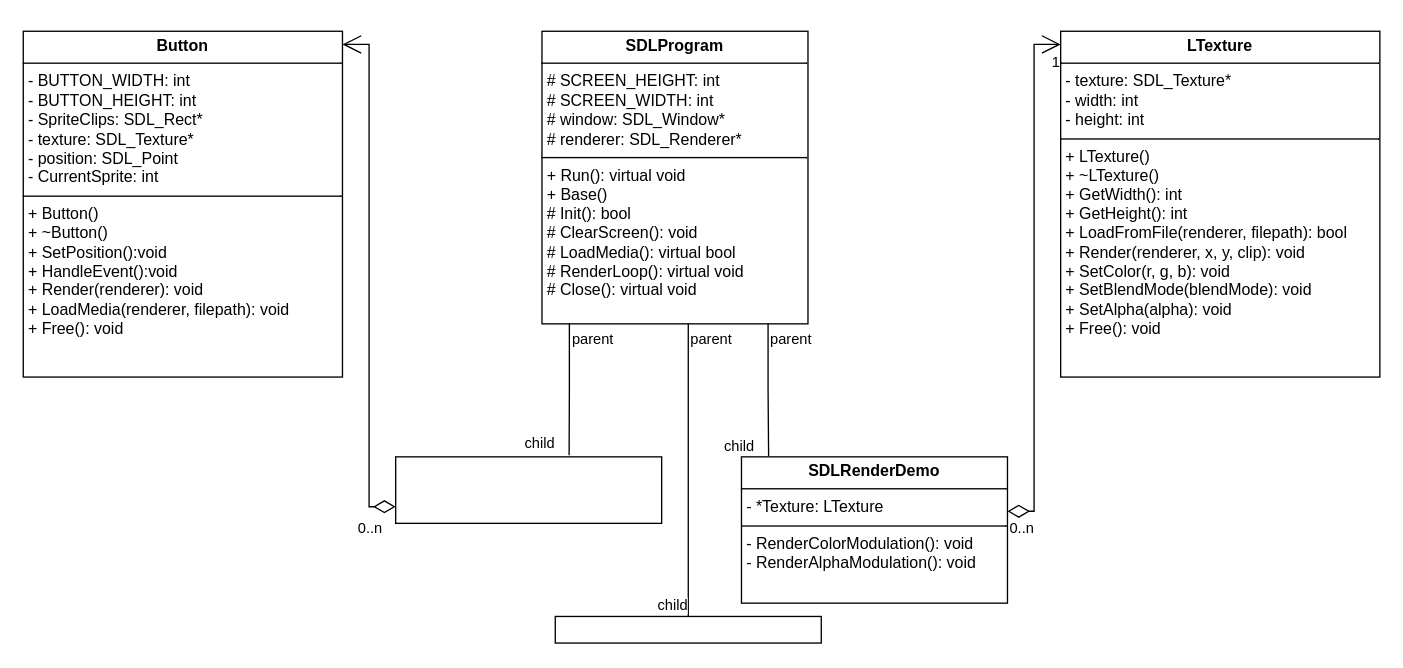
Image size: 1403x668. Some labels were removed from this diagram. The centre of each missing label's shape, as x and y in pixels:
"SDLAnimationDemo" goes at point (687, 629).
"SDLRenderDemo - *Button: Buttons" goes at point (528, 489).
